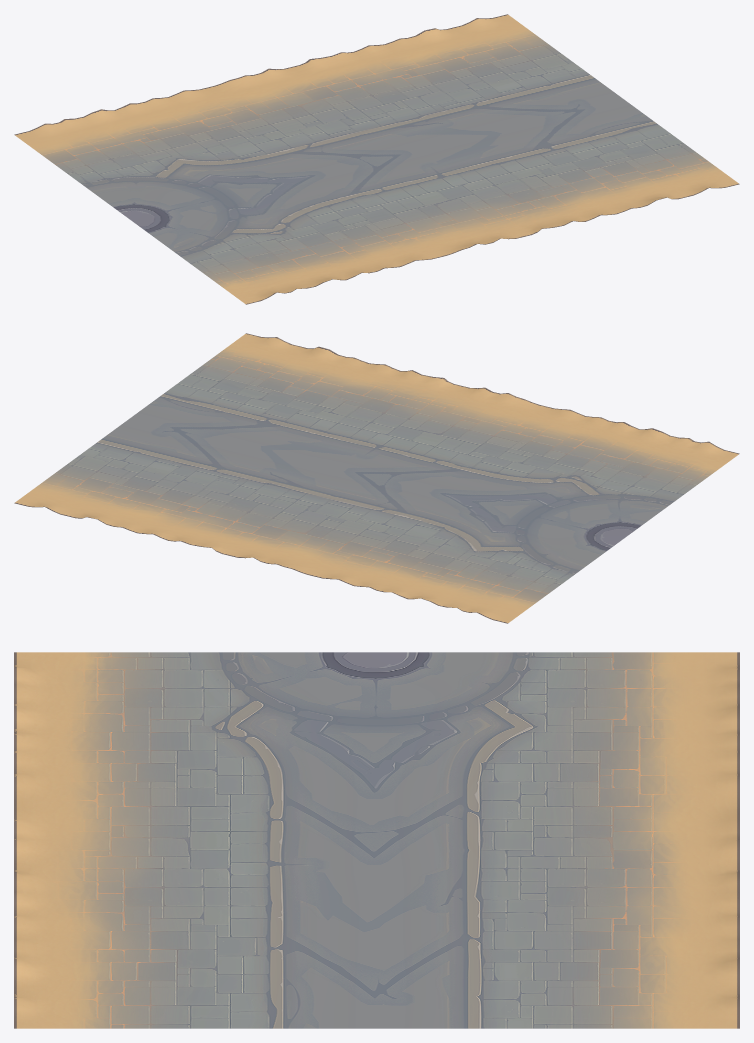
File: Bridge111.FBX
The picture shows the model from 3 angles, top to bottom: view 1: azimuth 30°, elevation 25°; view 2: azimuth 150°, elevation 25°; view 3: azimuth 270°, elevation 25°; orthographic projection. The views are drawn at different scales.
Parts seen in each view (by area): view 1: Object002; view 2: Object002; view 3: Object002.
Part boxes in pixels (x1,y1,x2,y2): Object002: (14,14,739,304); Object002: (14,333,739,623); Object002: (14,652,739,1028).
Bounding box in the file's own units: 32.03 × 0.2859 × 26.1.
Materials: 1 (1 with a texture image).
